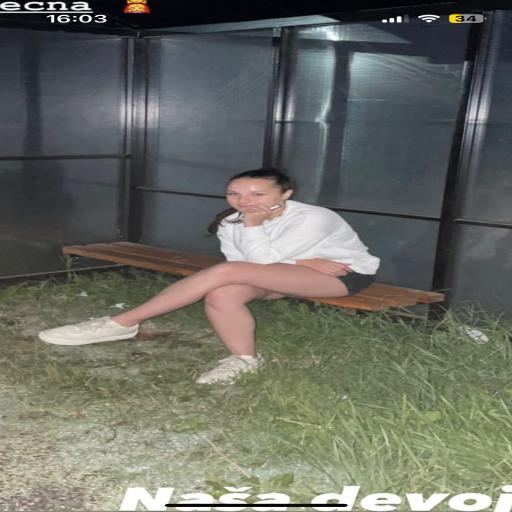marija: (226, 179, 288, 214), (58, 468, 64, 512)
